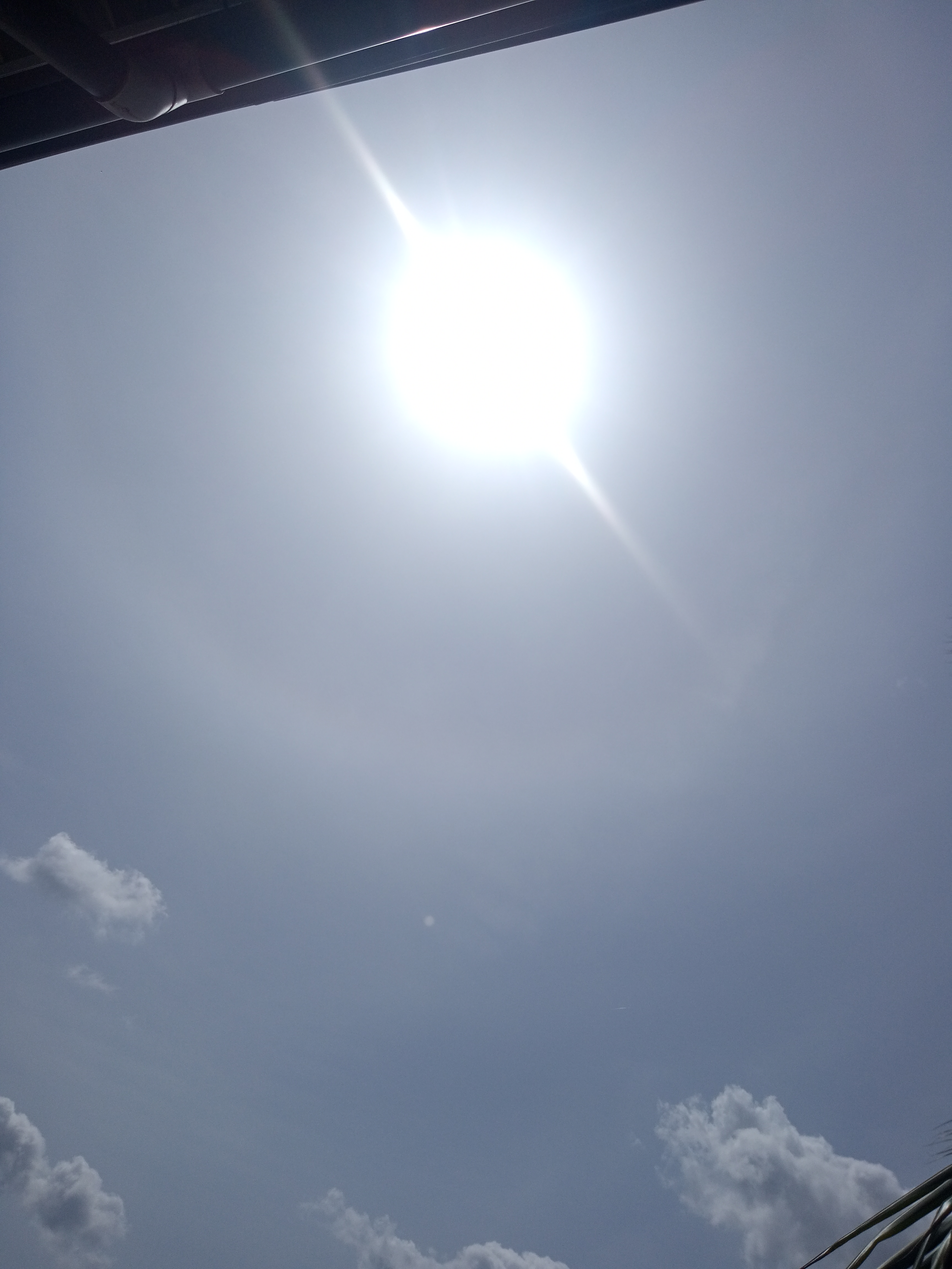sun: (284, 156, 658, 550)
